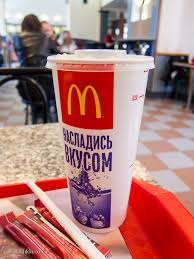mcdonalds: (66, 82, 104, 119)
